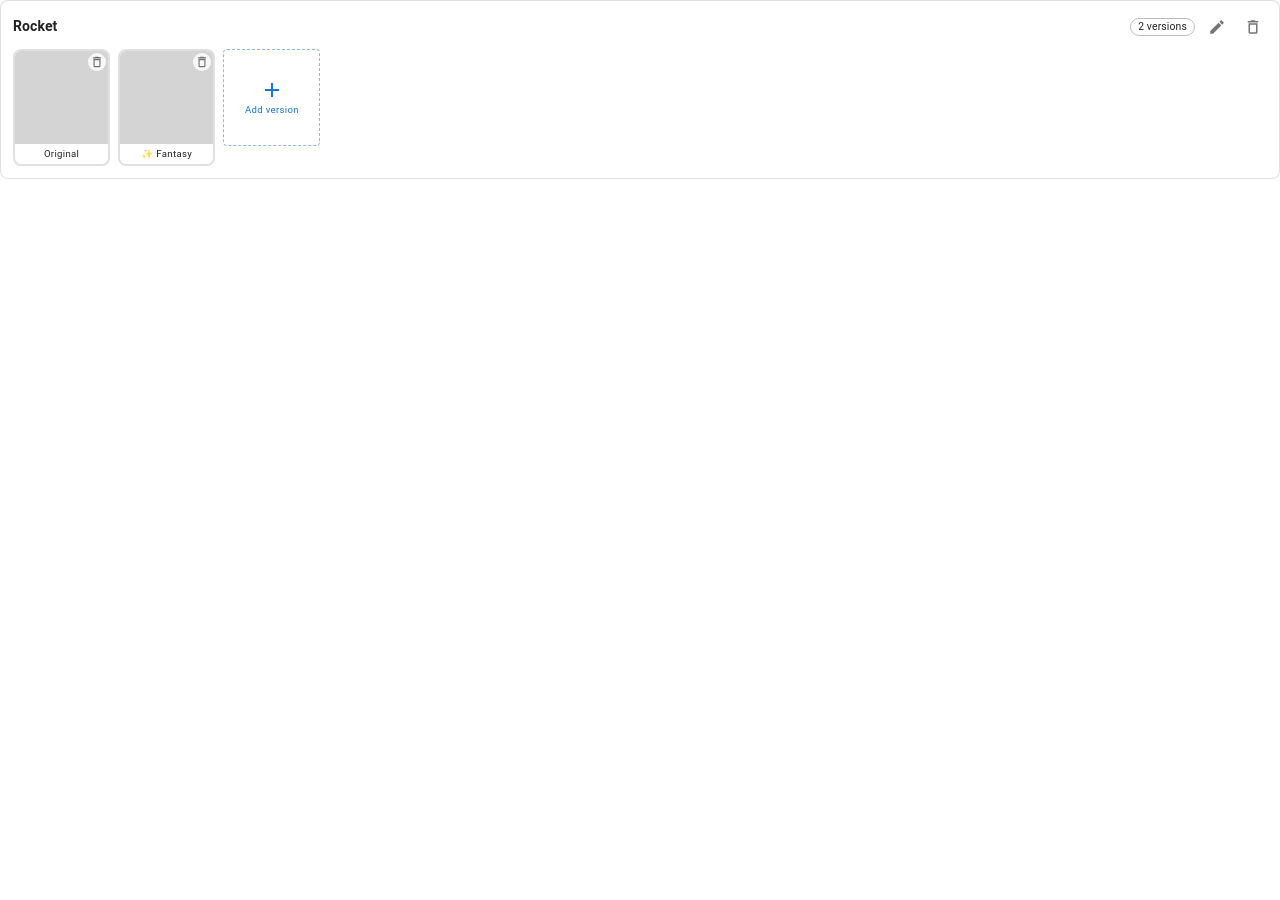
Scenario: DrawingGroupCard rename (FEAT-160) › seeds the dialog with the name already showing
Click the button named "Rename drawing" at (1217, 27), box [1203,13,1231,41]
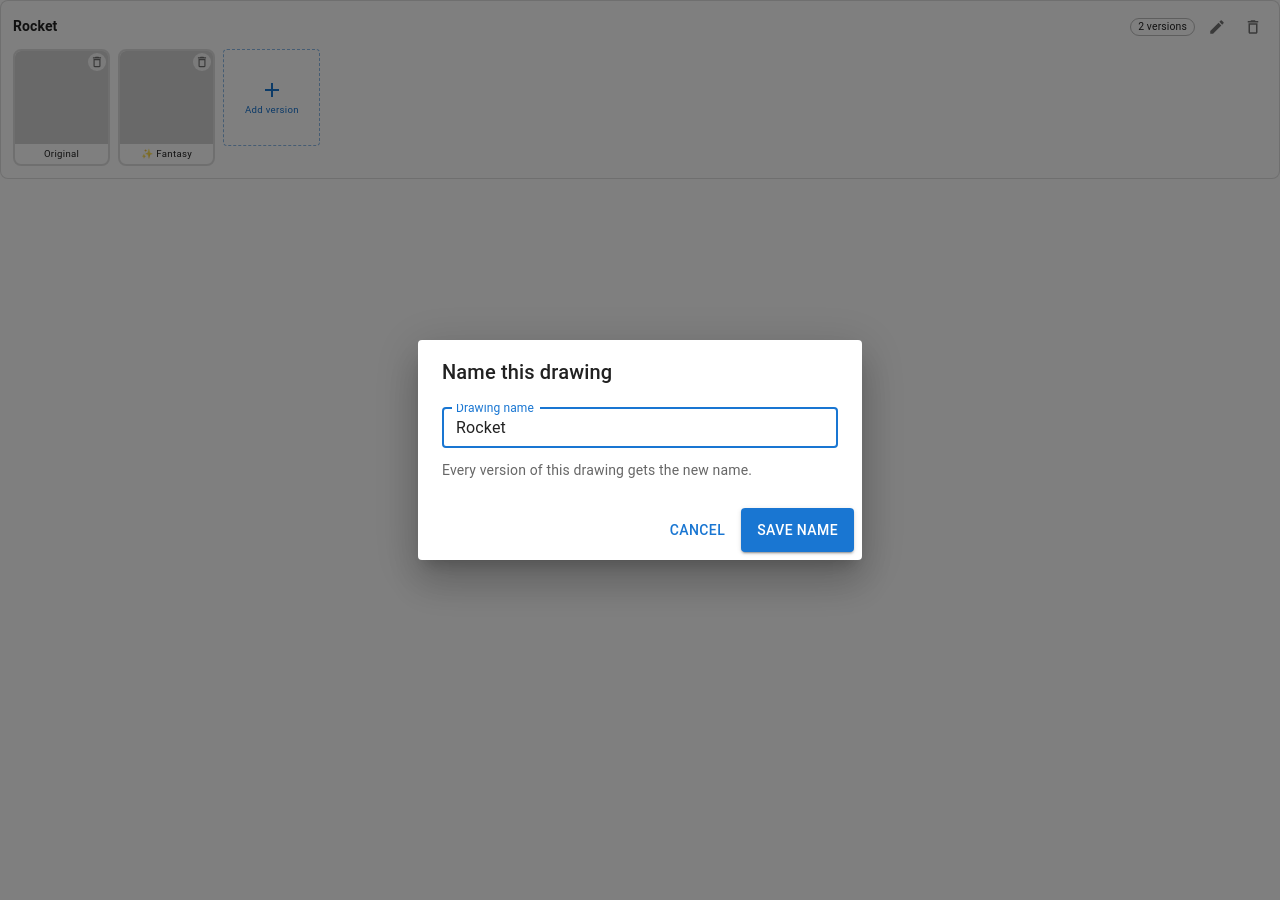
Now the field labelled "Drawing name" holds "Rocket", box [442,408,838,448]
